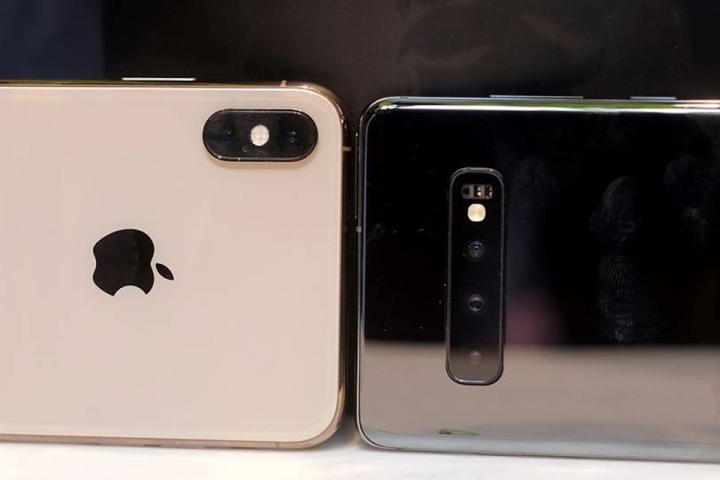apple: (62, 209, 214, 316)
